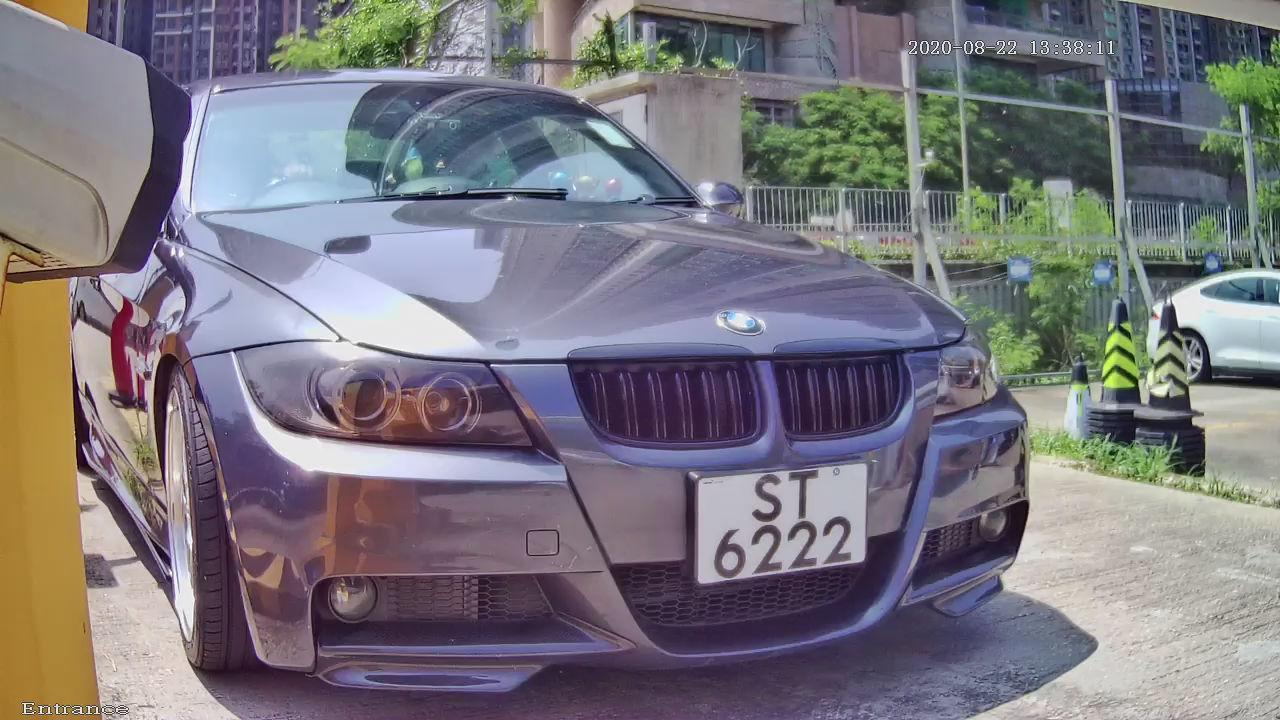Car: (63, 4, 1063, 720)
License Plate: (669, 444, 881, 595)
